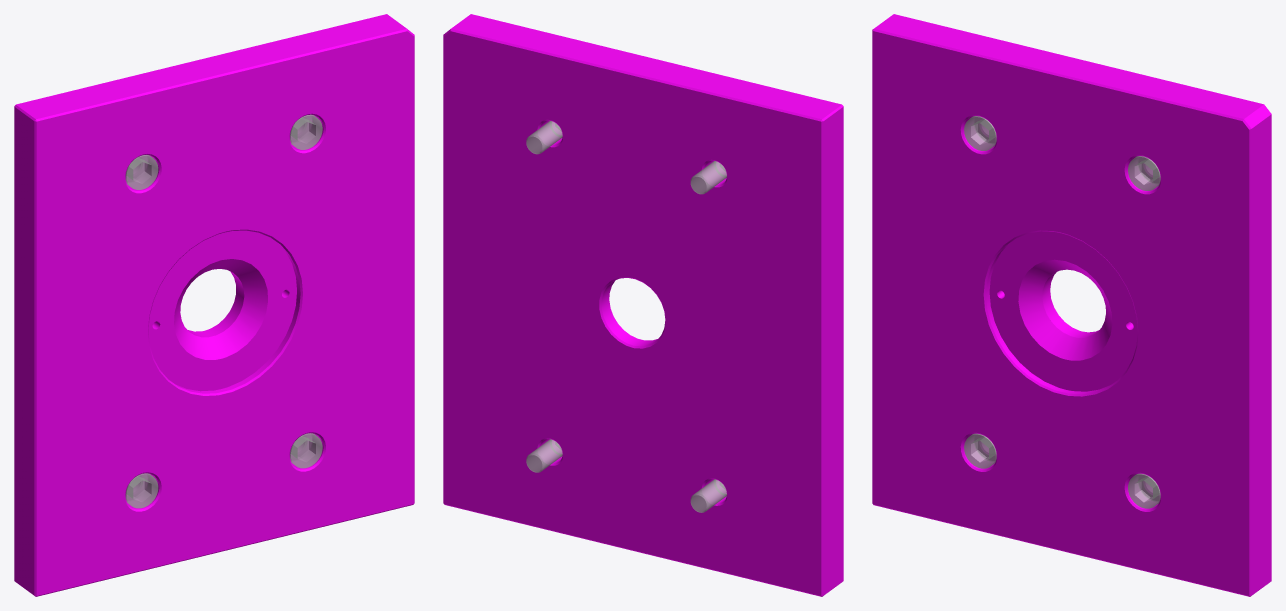
Rendered from t_plate.glb.
3 renders of one model, left to right at view 1: azimuth 30°, elevation 25°; view 2: azimuth 150°, elevation 25°; view 3: azimuth 330°, elevation 25°, orthographic.
Parts seen in each view (by area): view 1: cardcase_t_plate_041, cardcase_tcp_screw_040 (×4); view 2: cardcase_t_plate_041, cardcase_tcp_screw_040 (×4); view 3: cardcase_t_plate_041, cardcase_tcp_screw_040 (×4).
Boxes of the visible parts, x1,y1,x2,y2 form: cardcase_t_plate_041: (14,14,414,596); cardcase_tcp_screw_040 (×4): (125,114,322,508); cardcase_t_plate_041: (443,14,843,596); cardcase_tcp_screw_040 (×4): (526,121,726,512); cardcase_t_plate_041: (872,14,1271,596); cardcase_tcp_screw_040 (×4): (964,116,1160,508).
Bounding box in the file's own units: 0.25 × 0.3 × 0.043.
